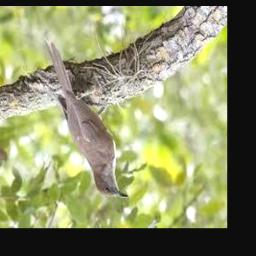Cuckoo: (43, 38, 128, 199)
